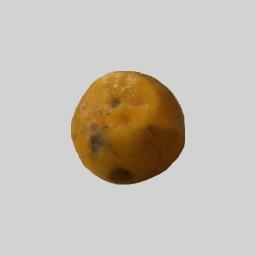Unripe: (69, 71, 187, 185)
